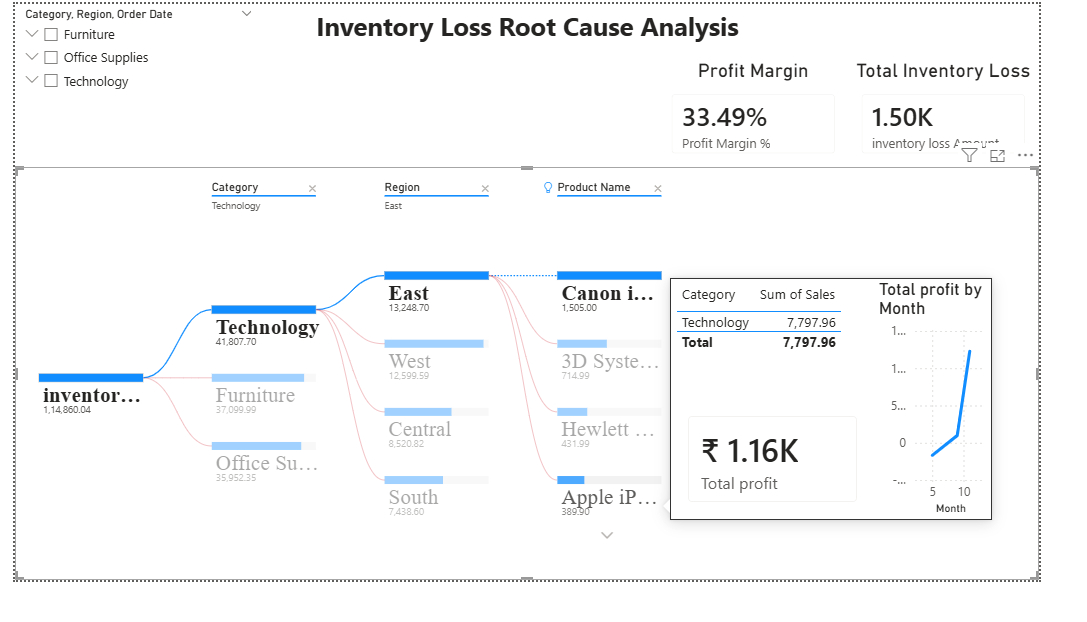

The dashboard page shown, as its layout file describes it:
{"tool":"powerbi","page":{"name":"Root Cause Analysis","canvas":[1280,720],"ordinal":6},"visuals":[{"type":"decompositionTreeVisual","fields":{"Analyze":["Retail Ordes.inventory loss"],"ExplainBy":["Retail Ordes.Category","Retail Ordes.Region","Retail Ordes.Product Name"]},"box":[0,204,1280,516],"z":0},{"type":"cardVisual","title":"Total Inventory Loss","fields":{"Data":["Retail Ordes.inventory loss Amount"]},"box":[1041.7,68.3,238.3,135],"z":1000},{"type":"cardVisual","title":"Profit Margin","fields":{"Data":["Retail Ordes.Profit Margin %"]},"box":[803.3,68.3,238.3,135],"z":2000},{"type":"textbox","box":[238.3,0,803.3,68.3],"z":3000},{"type":"slicer","fields":{"Values":["Retail Ordes.Category","Retail Ordes.Region","Retail Ordes.Order Date"]},"box":[0,0,308.3,190],"z":4000}]}

Visuals, with their boxes in screenshot pixels (x1, y1, x2, y2), scaled from the page's 1280x720 canvas onto the 1087x622 screenshot:
decompositionTreeVisual - Retail Ordes.inventory loss x Retail Ordes.Category: (0, 176, 1086, 621)
"Total Inventory Loss" cardVisual: (885, 59, 1086, 176)
"Profit Margin" cardVisual: (682, 59, 885, 176)
textbox: (202, 0, 885, 59)
slicer - Retail Ordes.Category x Retail Ordes.Region: (0, 0, 262, 164)
